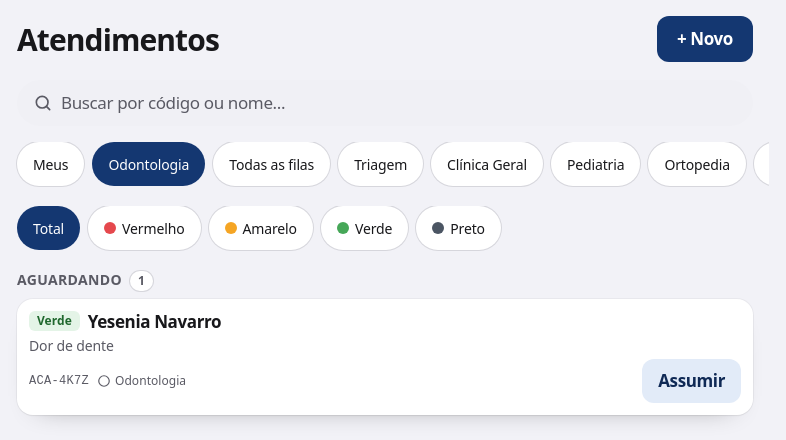
Test: Fila de atendimentos › em "Todas" não agrupa, porque a lista mistura filas
Click the button "Todas as filas" at [272, 164], box [213, 142, 330, 186]
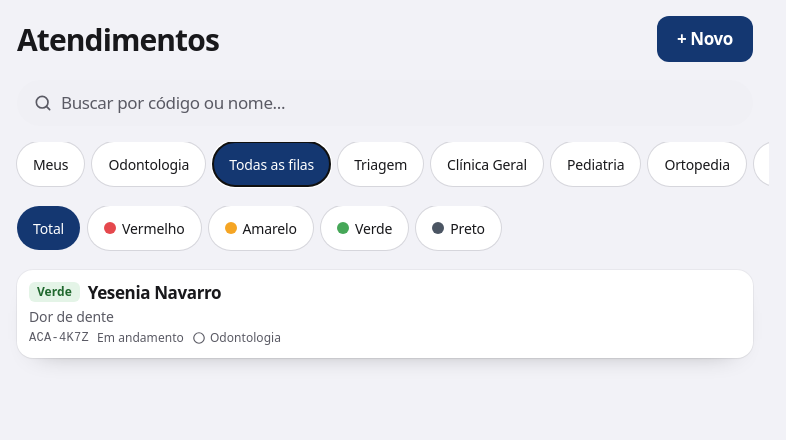
Expected: the heading "Aguardando" is gone
